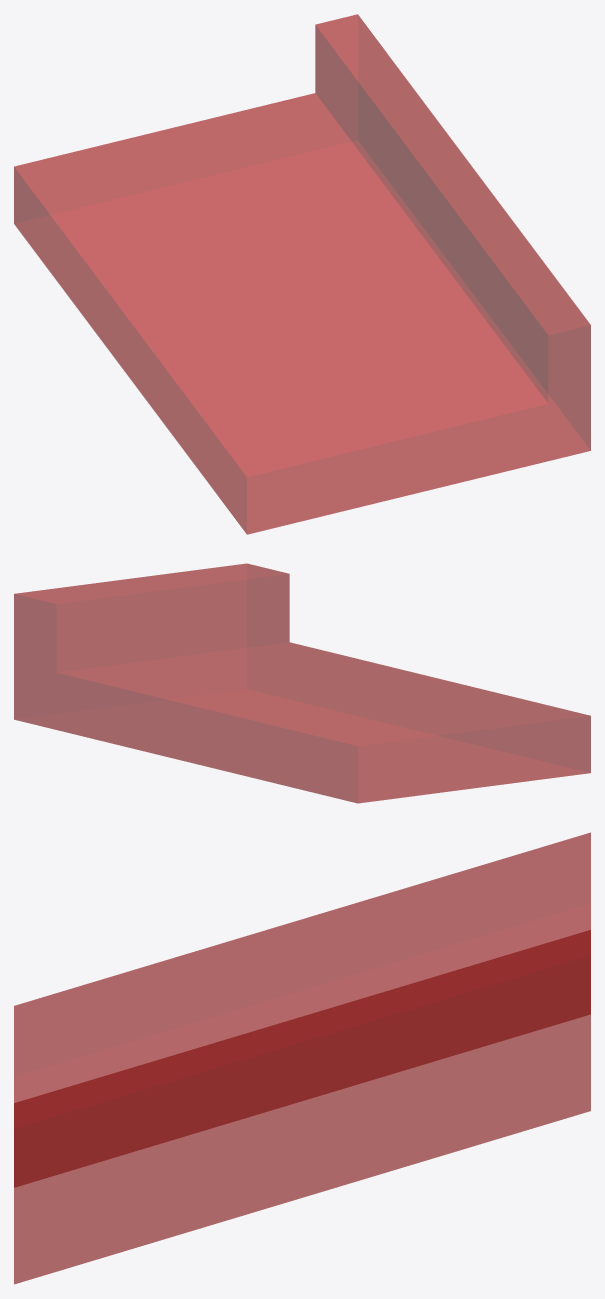
File: SM_Env_Motorway_Ramp_Edge_02_Collision.fbx
The picture shows the model from 3 angles, top to bottom: view 1: azimuth 30°, elevation 25°; view 2: azimuth 150°, elevation 25°; view 3: azimuth 270°, elevation 25°; orthographic projection. The views are drawn at different scales.
Visible parts, largest first — view 1: SM_Env_Motorway_Ramp_Edge_02_Collision; view 2: SM_Env_Motorway_Ramp_Edge_02_Collision; view 3: SM_Env_Motorway_Ramp_Edge_02_Collision.
Boxes of the visible parts, x1,y1,x2,y2 form: SM_Env_Motorway_Ramp_Edge_02_Collision: (14, 14, 590, 534); SM_Env_Motorway_Ramp_Edge_02_Collision: (14, 563, 590, 803); SM_Env_Motorway_Ramp_Edge_02_Collision: (14, 832, 590, 1284).
Size of the model in its own units: 640 by 473 by 752.
